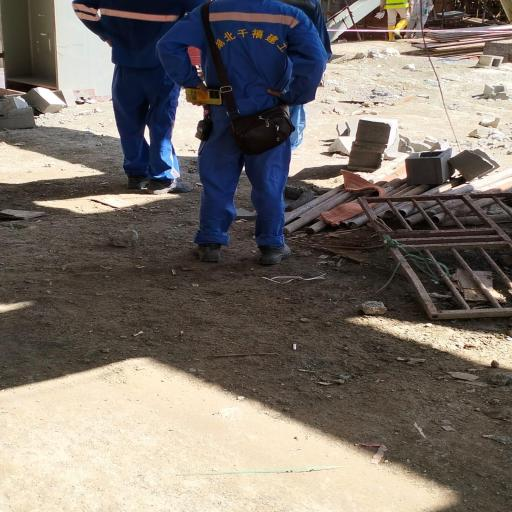safety_shoe: (253, 238, 294, 263), (150, 178, 195, 194), (190, 242, 222, 262), (126, 175, 152, 188)
